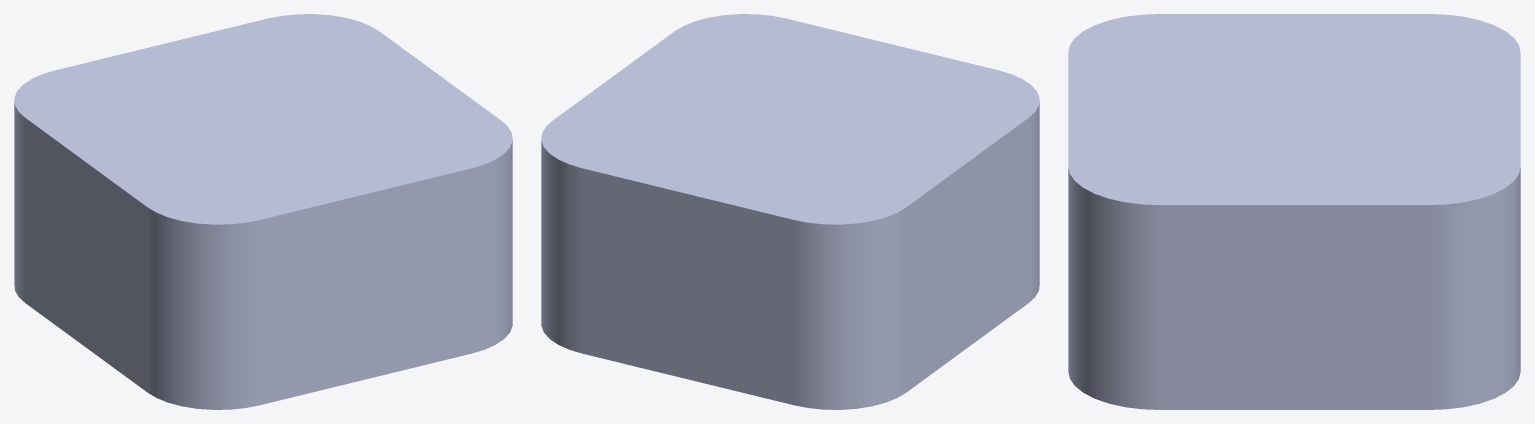
File: tictac_fat.fbx
3 views of the same model, side by side, from view 1: azimuth 30°, elevation 25°; view 2: azimuth 150°, elevation 25°; view 3: azimuth 270°, elevation 25° (orthographic). The views are drawn at different scales.
Parts seen in each view (by area): view 1: Body1; view 2: Body1; view 3: Body1.
Boxes of the visible parts, <box> form: Body1: <box>14,14,512,409</box>; Body1: <box>541,14,1039,409</box>; Body1: <box>1068,14,1520,409</box>.
Bounding box in the file's own units: 2 × 1 × 2.
